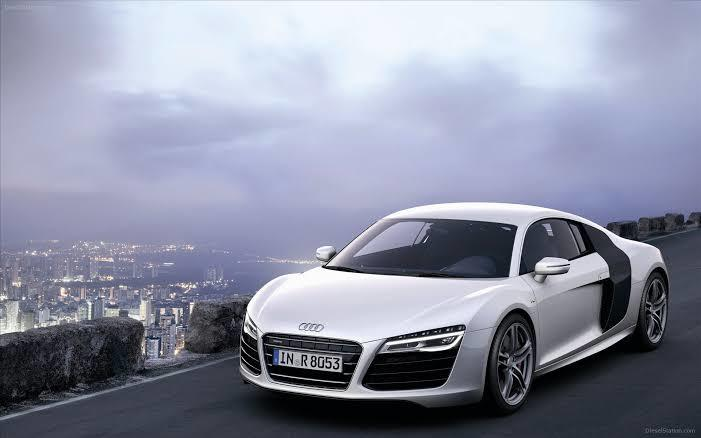audi: (236, 192, 677, 417)
